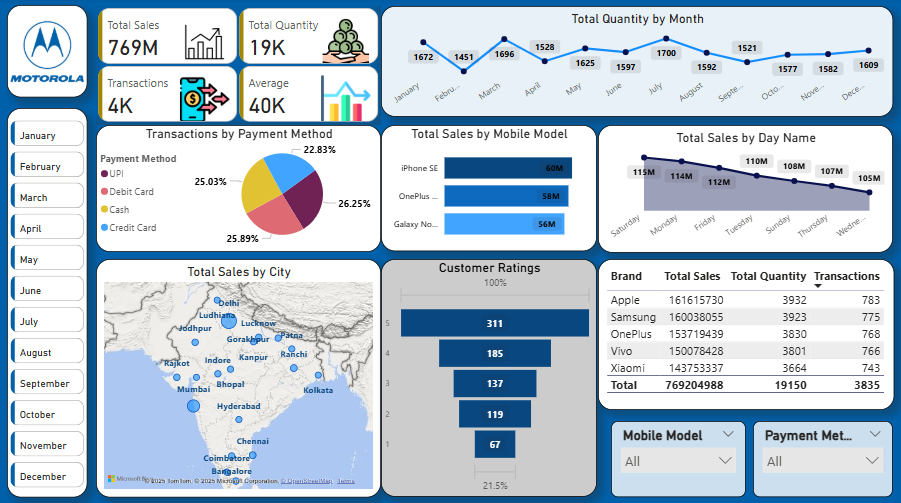

What the dashboard file says about the page in this screenshot:
{"tool":"powerbi","page":{"name":"Page 1","canvas":[1280,720],"ordinal":0},"visuals":[{"type":"shape","box":[11.4,10,114.2,131.3],"z":0},{"type":"image","box":[11.4,10,114.2,131.3],"z":1000},{"type":"shape","box":[11.4,155.5,114.2,552.2],"z":2000},{"type":"advancedSlicerVisual","fields":{"Values":["Sales_Data.Date.Variation.Date Hierarchy.Month"]},"box":[10.7,168,114.4,539.9],"z":3000},{"type":"cardVisual","fields":{"Data":["Sales_Data.Total Sales","Sales_Data.Total Quantity","Sales_Data.Transactions","Sales_Data.Average"]},"box":[137,11.4,403.8,168.4],"z":4000},{"type":"map","fields":{"Category":["Sales_Data.City"],"Size":["Sales_Data.Total Sales"]},"box":[137,369.6,403.8,338.2],"z":5000},{"type":"lineChart","fields":{"Category":["Sales_Data.Date.Variation.Date Hierarchy.Month","Sales_Data.Date.Variation.Date Hierarchy.Day"],"Y":["Sales_Data.Total Quantity"]},"box":[541.7,10.7,725.8,157.3],"z":6000},{"type":"clusteredBarChart","fields":{"Category":["Sales_Data.Mobile Model"],"Y":["Sales_Data.Total Sales"]},"box":[541.7,180.6,305.7,178.8],"z":7000},{"type":"pieChart","fields":{"Category":["Sales_Data.Payment Method"],"Y":["Sales_Data.Transactions"]},"box":[137,179.8,403.8,179.8],"z":8000},{"type":"funnel","title":"Customer Ratings","fields":{"Category":["Sales_Data.Customer Ratings"],"Y":["CountNonNull(Sales_Data.Customer Ratings)"]},"box":[541.4,369.9,306.1,337.3],"z":9000},{"type":"areaChart","fields":{"Category":["Sales_Data.Day Name"],"Y":["Sales_Data.Total Sales"]},"box":[849.2,180.6,418.3,180.6],"z":10000},{"type":"tableEx","fields":{"Values":["Sales_Data.Brand","Sales_Data.Total Sales","Sales_Data.Total Quantity","Sales_Data.Transactions"]},"box":[849,369.9,419.5,214],"z":11000},{"type":"slicer","fields":{"Values":["Sales_Data.Mobile Model"]},"box":[867.4,599.5,191.3,107.7],"z":12000},{"type":"slicer","fields":{"Values":["Sales_Data.Payment Method"]},"box":[1068.7,599.5,198.4,107.7],"z":13000}]}

Visuals, with their boxes in screenshot pixels (x1, y1, x2, y2), scaled from the page's 1280x720 canvas onto the 901x503 screenshot:
shape: x1=8, y1=7, x2=88, y2=99
image: x1=8, y1=7, x2=88, y2=99
shape: x1=8, y1=109, x2=88, y2=494
advancedSlicerVisual - Sales_Data.Date.Variation.Date Hierarchy.Month: x1=8, y1=117, x2=88, y2=495
cardVisual - Sales_Data.Total Sales x Sales_Data.Total Quantity: x1=96, y1=8, x2=381, y2=126
map - Sales_Data.City x Sales_Data.Total Sales: x1=96, y1=258, x2=381, y2=494
lineChart - Sales_Data.Date.Variation.Date Hierarchy.Month x Sales_Data.Date.Variation.Date Hierarchy.Day: x1=381, y1=7, x2=892, y2=117
clusteredBarChart - Sales_Data.Mobile Model x Sales_Data.Total Sales: x1=381, y1=126, x2=596, y2=251
pieChart - Sales_Data.Payment Method x Sales_Data.Transactions: x1=96, y1=126, x2=381, y2=251
"Customer Ratings" funnel: x1=381, y1=258, x2=597, y2=494
areaChart - Sales_Data.Day Name x Sales_Data.Total Sales: x1=598, y1=126, x2=892, y2=252
tableEx - Sales_Data.Brand x Sales_Data.Total Sales: x1=598, y1=258, x2=893, y2=408
slicer - Sales_Data.Mobile Model: x1=611, y1=419, x2=745, y2=494
slicer - Sales_Data.Payment Method: x1=752, y1=419, x2=892, y2=494
